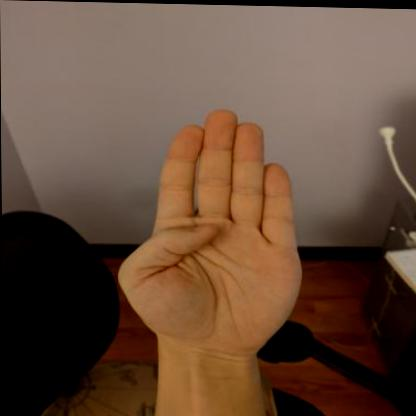B: (109, 101, 314, 371)
